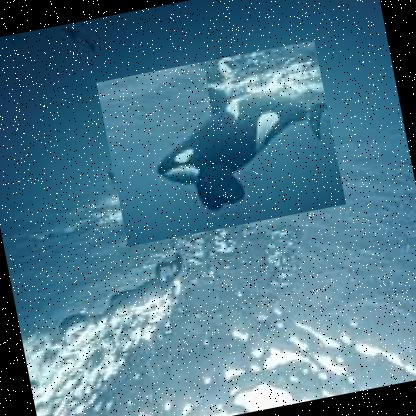killer_whale: (96, 38, 346, 246)
